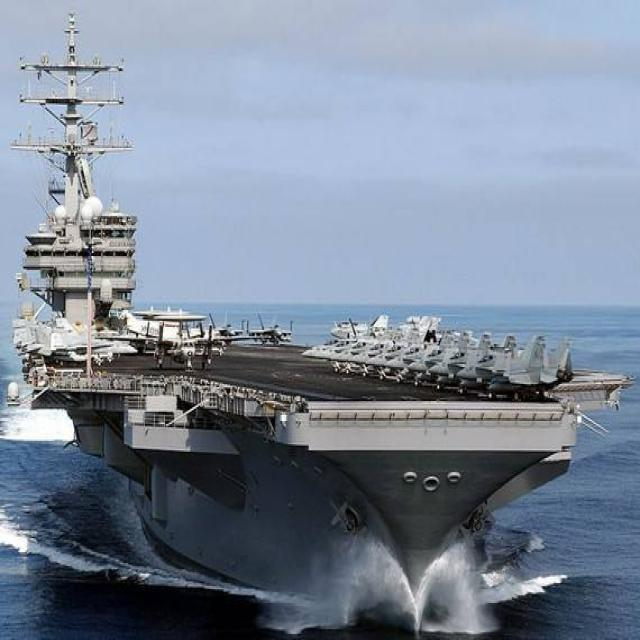navalvessels: (33, 34, 598, 621)
